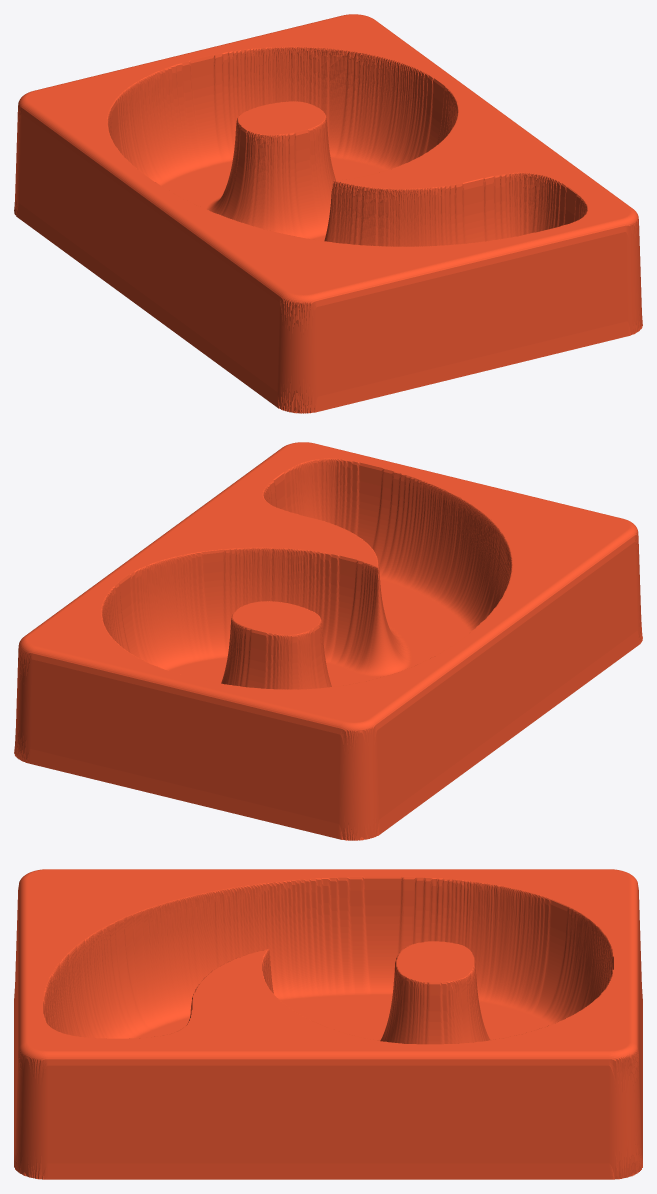
File: mold.glb
3 views of the same model, one above another, from view 1: azimuth 30°, elevation 25°; view 2: azimuth 150°, elevation 25°; view 3: azimuth 270°, elevation 25° (orthographic). The views are drawn at different scales.
Visible parts, largest first — view 1: geometry_0; view 2: geometry_0; view 3: geometry_0.
Boxes of the visible parts, x1,y1,x2,y2 form: geometry_0: (14, 14, 642, 413); geometry_0: (14, 442, 642, 840); geometry_0: (14, 869, 642, 1179).
Size of the model in its own units: 0.1222 by 0.0365 by 0.1689.
